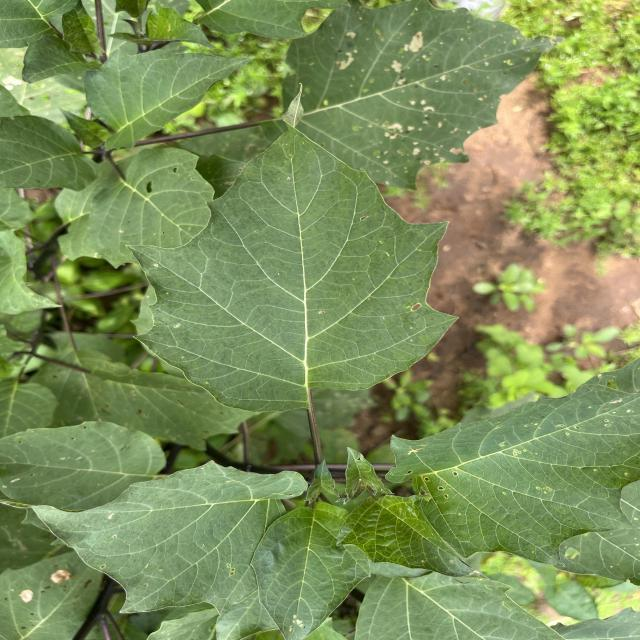Datura metal linn: (120, 77, 463, 417), (382, 352, 640, 571), (0, 458, 311, 617), (246, 500, 373, 640), (333, 492, 496, 586)
